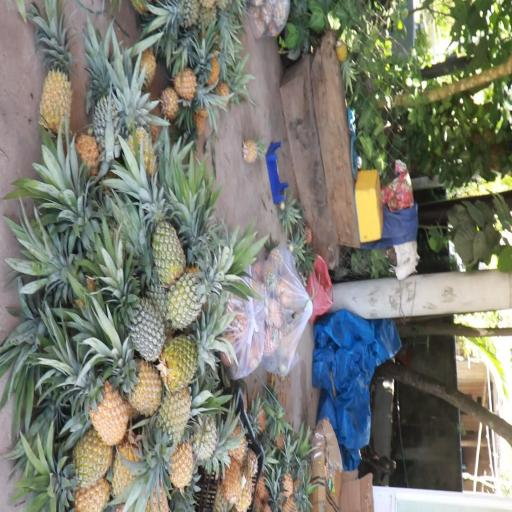------------------------------: (162, 250, 240, 326), (133, 172, 186, 279), (162, 322, 235, 384)
Pineapple - v8 v1: (22, 434, 112, 512), (97, 324, 161, 416), (64, 354, 126, 442), (37, 19, 76, 146), (146, 381, 188, 494)
